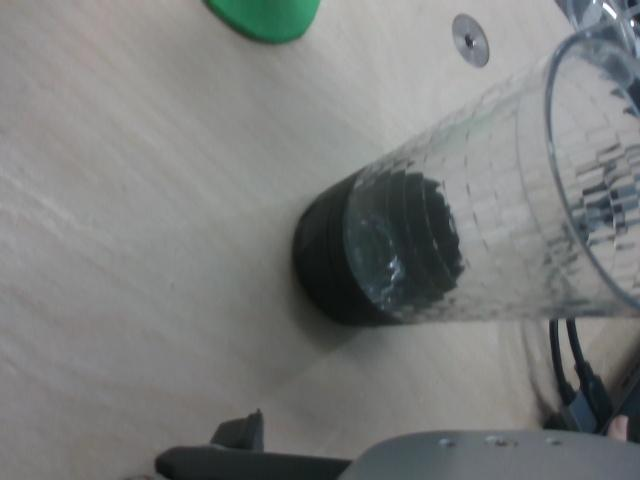black_cup: (290, 164, 462, 326)
green_cup: (201, 0, 319, 43)
